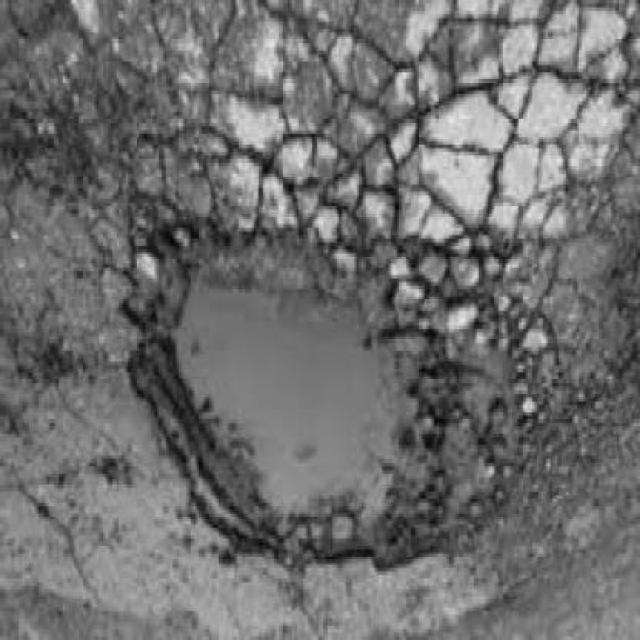pothole: (126, 220, 466, 586)
